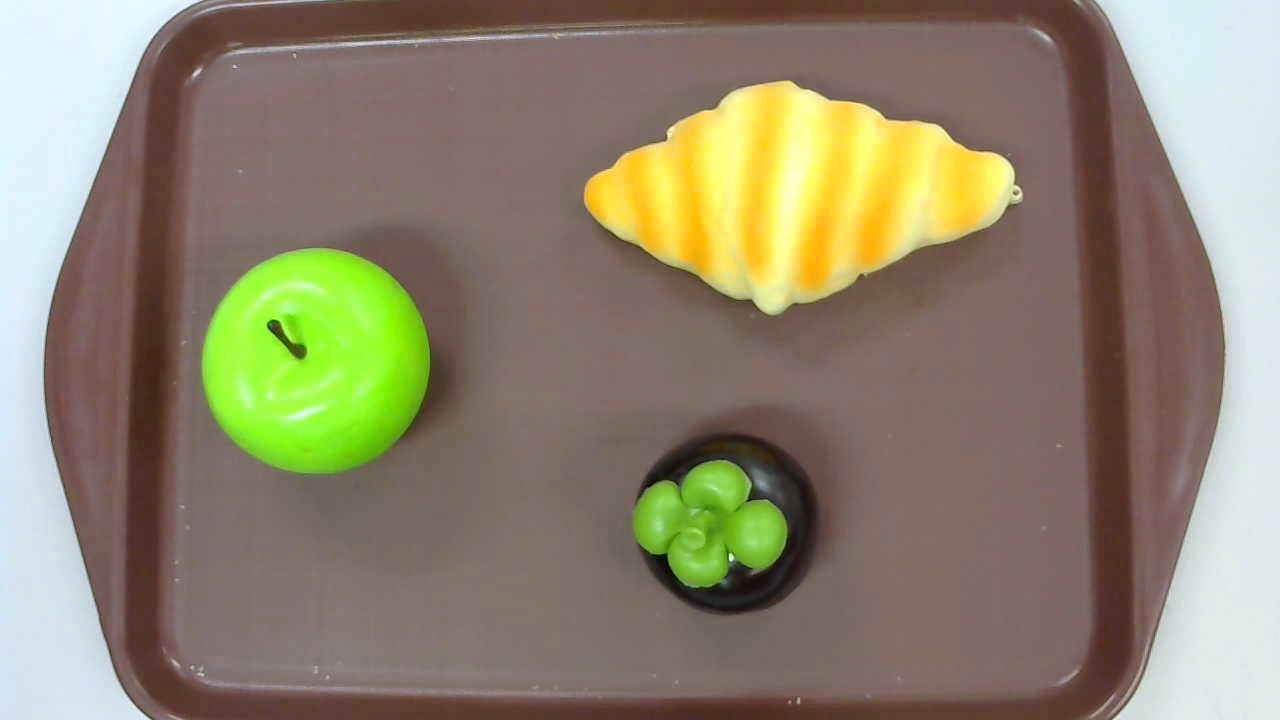croissant: (583, 81, 1022, 318)
green apple: (201, 247, 431, 477)
mangosteen: (630, 432, 819, 615)
